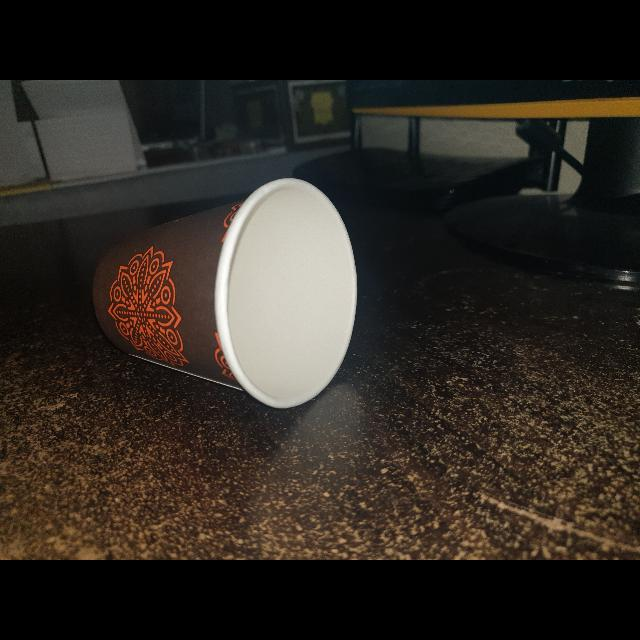trash: (88, 174, 362, 420)
